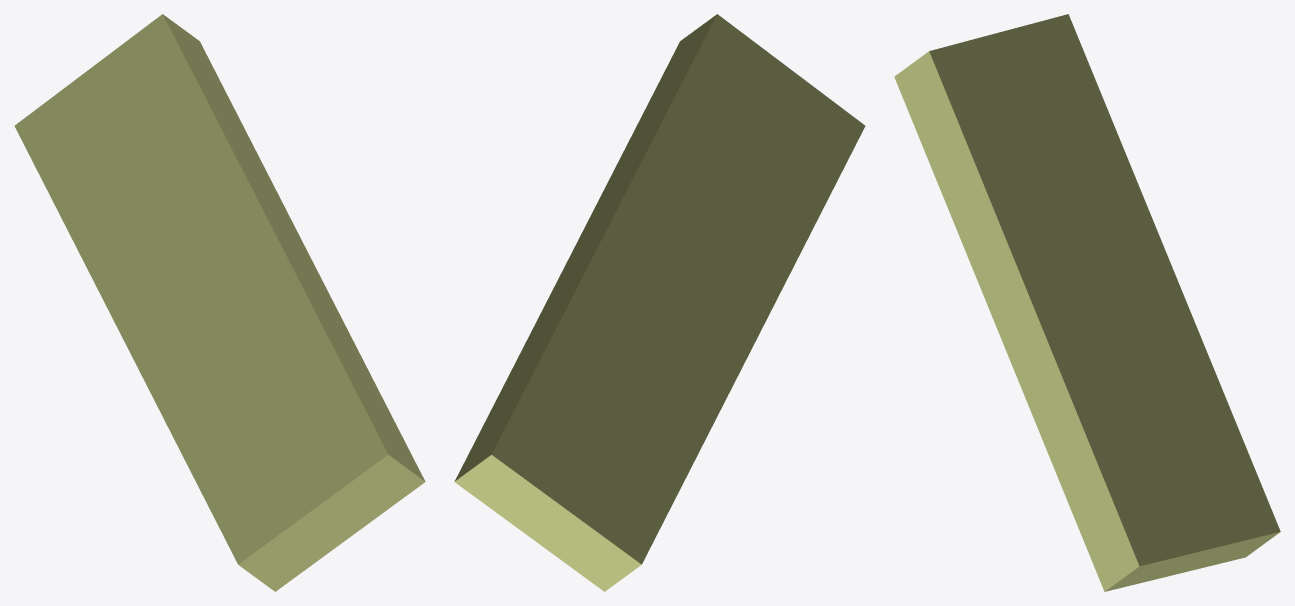
The picture shows the model from 3 angles, left to right: view 1: azimuth 30°, elevation 25°; view 2: azimuth 150°, elevation 25°; view 3: azimuth 330°, elevation 25°; orthographic projection. The views are drawn at different scales.
Parts seen in each view (by area): view 1: 0_1_1_3_2_3_1_1; view 2: 0_1_1_3_2_3_1_1; view 3: 0_1_1_3_2_3_1_1.
Boxes of the visible parts, x1,y1,x2,y2 form: 0_1_1_3_2_3_1_1: (14, 14, 425, 591); 0_1_1_3_2_3_1_1: (454, 14, 865, 591); 0_1_1_3_2_3_1_1: (894, 14, 1280, 591).
Bounding box in the file's own units: 34.8 × 50.6 × 6.
